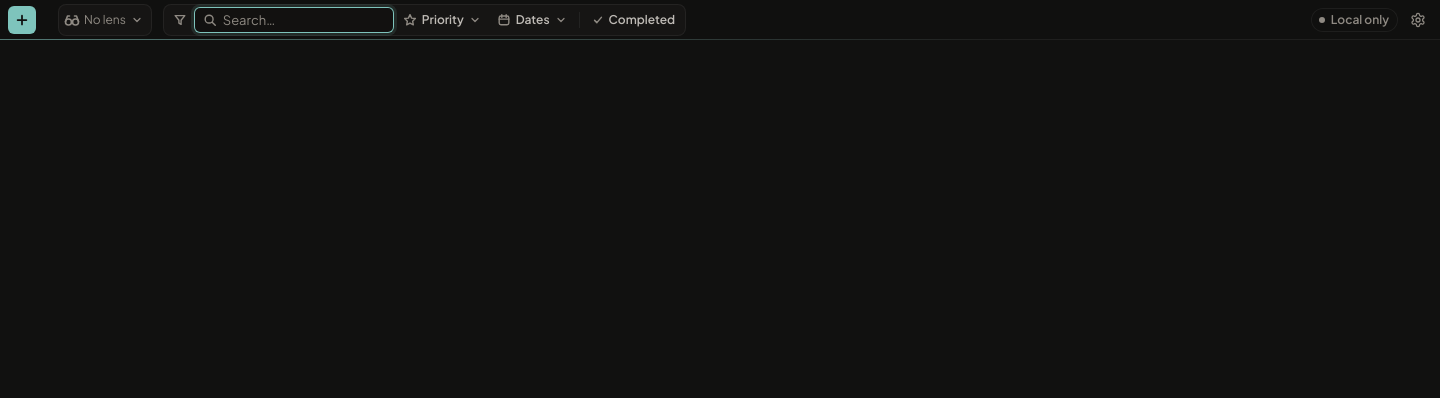
Test: TopBar search right-click — dropdown survival › closes both the menu and the listbox when a menu action runs
Type "buy" into the field with placeholder "Search…" at (294, 20), box [194,6,394,32]
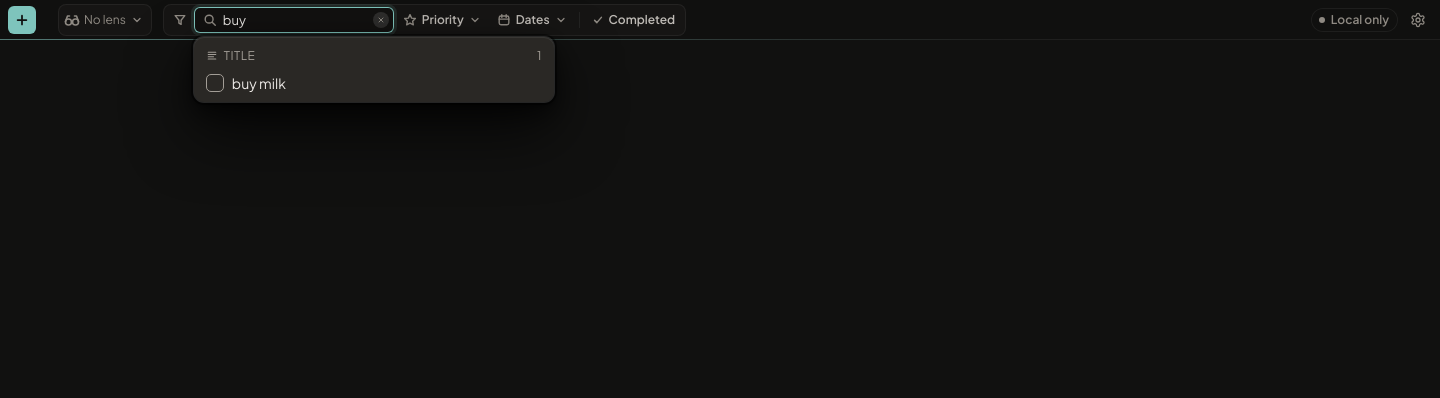
Right-click the option "buy milk" at (259, 82), box [232,74,542,92]
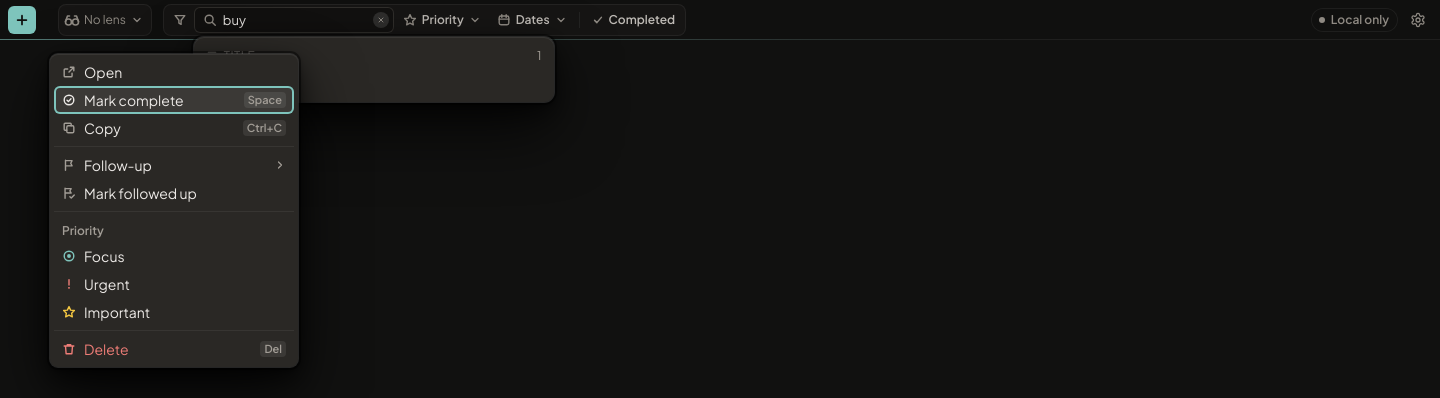
Click the menu item "Mark complete Space" at (174, 100), box [54,86,294,114]
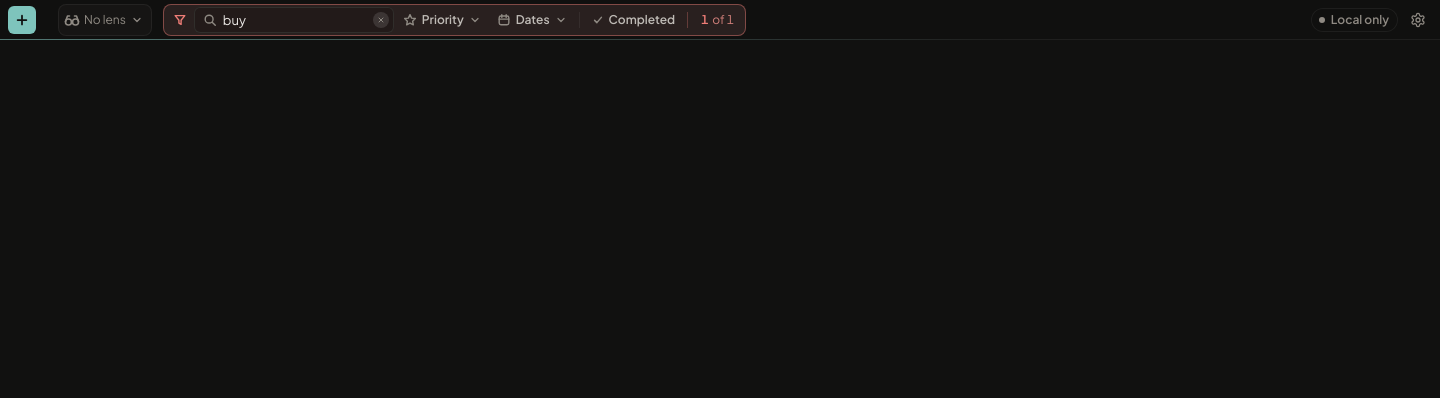
Result: the menu item "Mark complete" is gone
